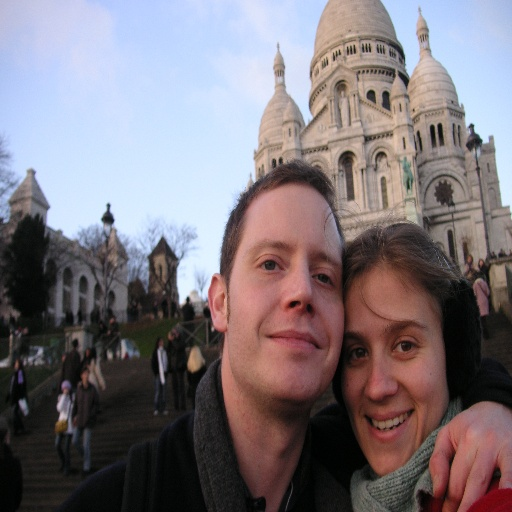hand: (428, 405, 511, 512)
